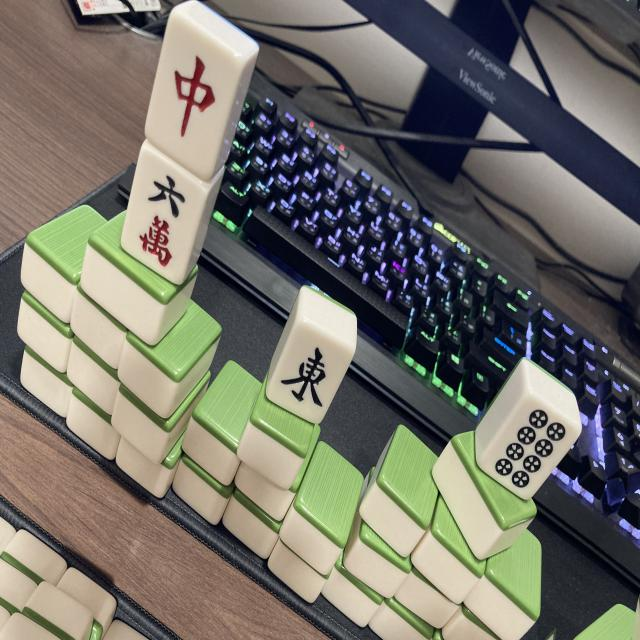east: (263, 317, 353, 427)
m6: (119, 146, 209, 288)
t8: (472, 393, 582, 510)
zhong: (143, 8, 257, 183)
